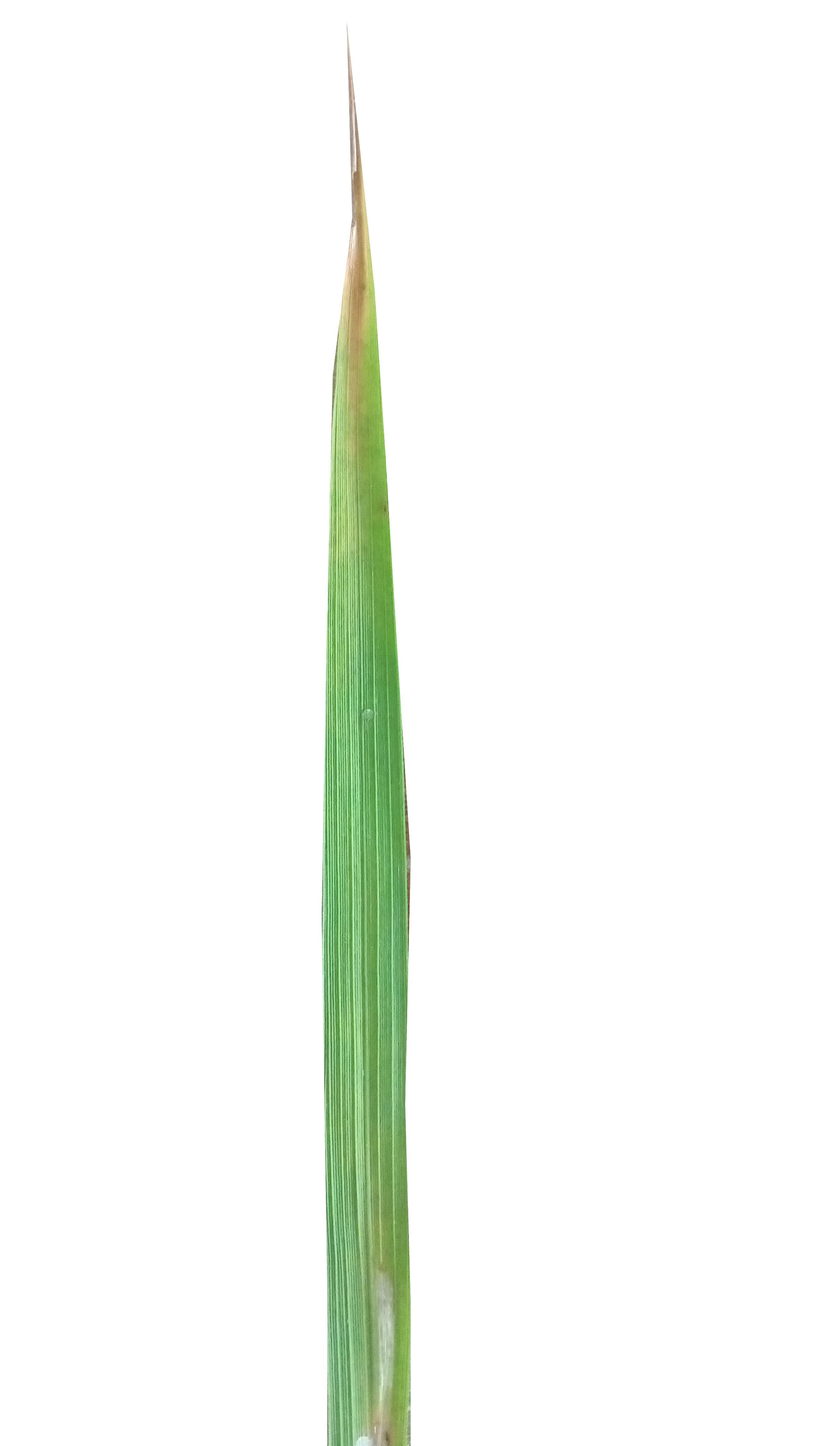Tungro: (330, 190, 392, 562)
